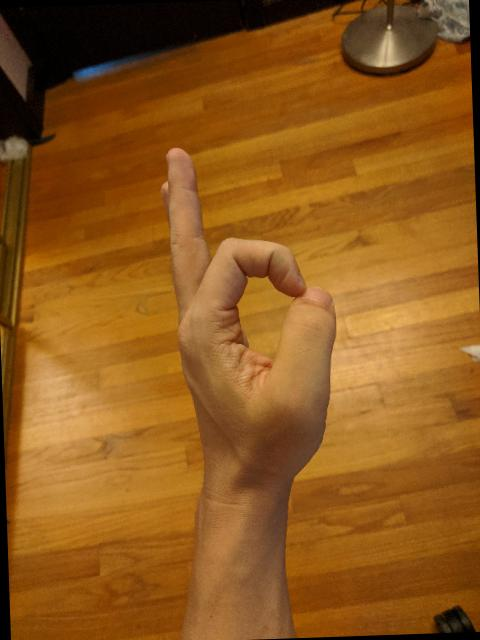F: (156, 138, 346, 494)
